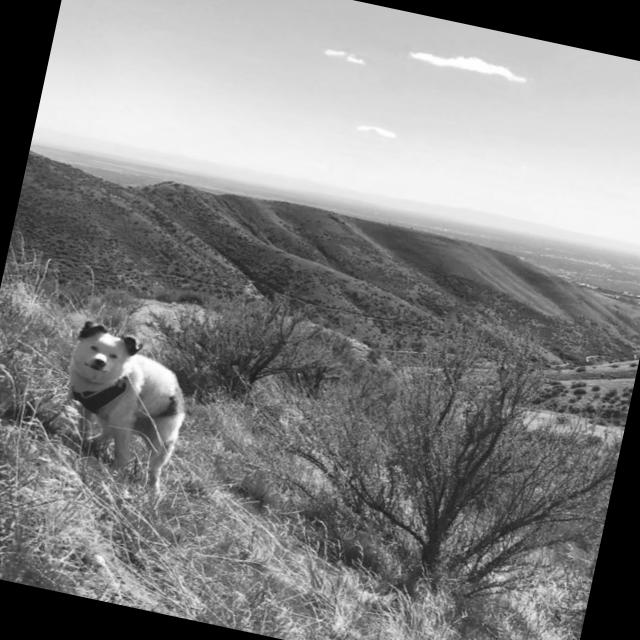squatting: (35, 316, 208, 508)
